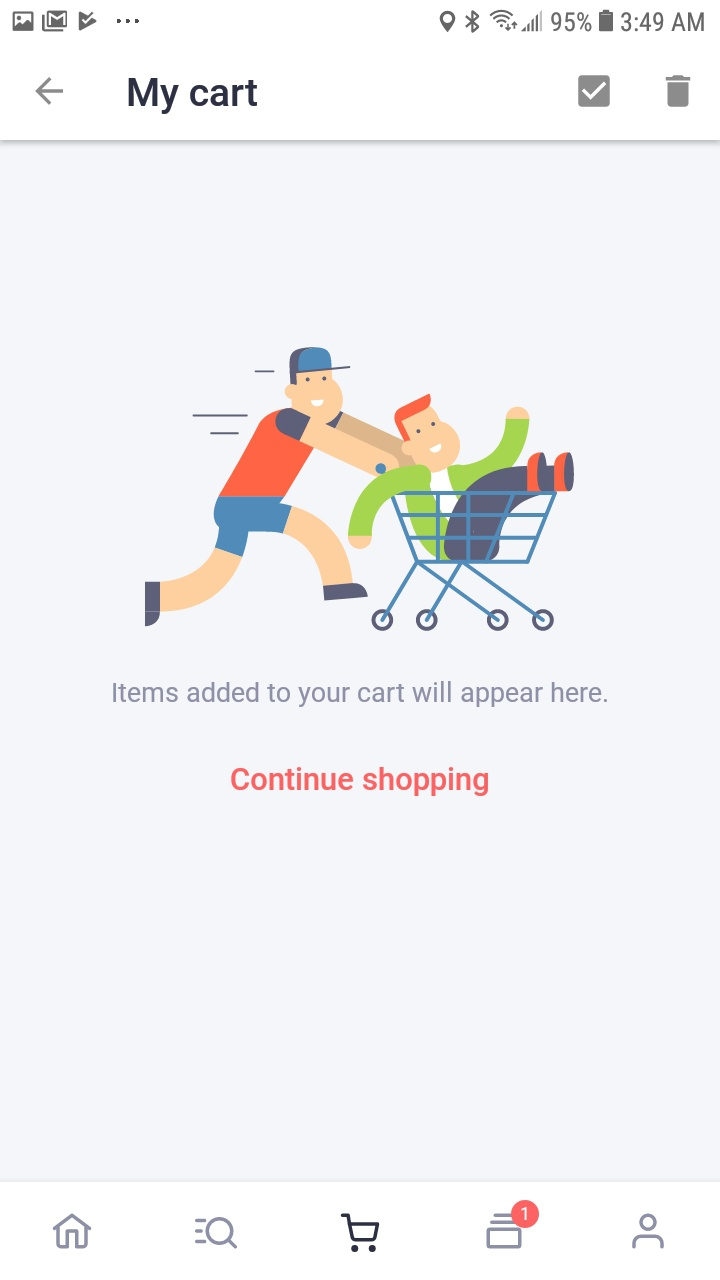Icon: (486, 1199, 540, 1249), (340, 1213, 380, 1253), (54, 1212, 93, 1249), (195, 1216, 238, 1249), (632, 1213, 665, 1249), (578, 75, 611, 108), (665, 75, 691, 108), (36, 77, 65, 106)
Image: (145, 347, 575, 633)
Text: (113, 681, 608, 709), (231, 766, 489, 797), (128, 78, 258, 115)
UpperTaskBar: (1, 1, 720, 35)
